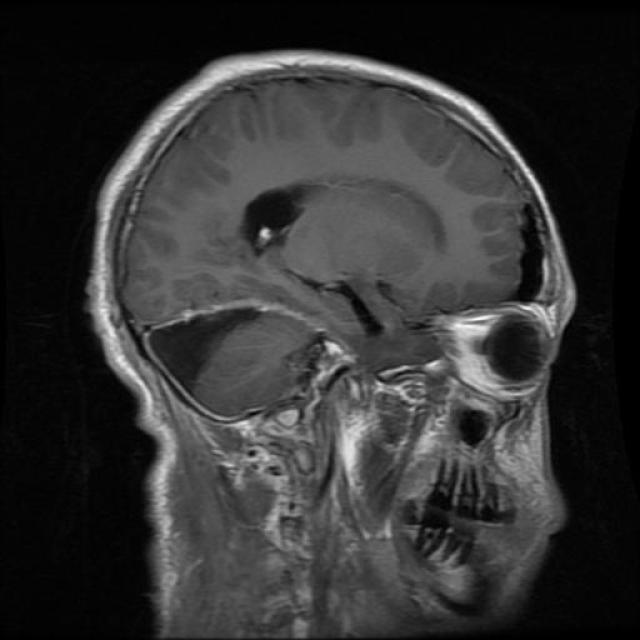glioma: (239, 168, 319, 260)
